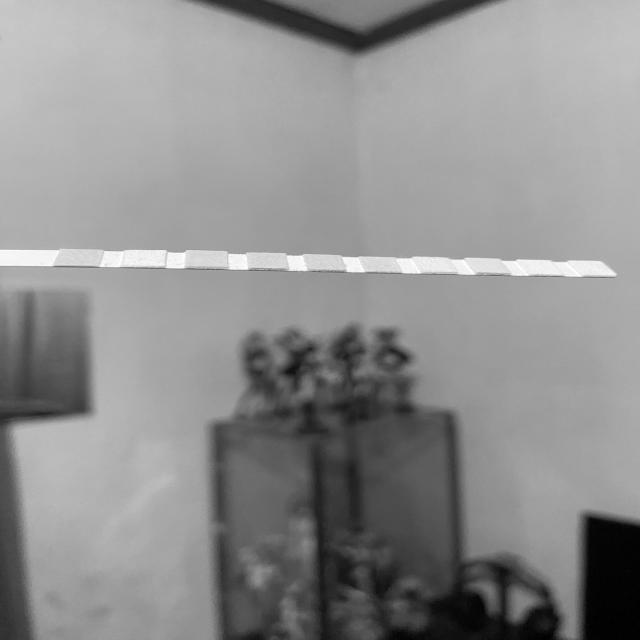Bilirubin: (127, 250, 165, 266)
Blood: (308, 254, 340, 271)
Glucose: (62, 248, 97, 266)
Ketone: (187, 250, 227, 266)
Leukocytes: (580, 261, 602, 276)
Nitrite: (528, 260, 552, 274)
Protein: (422, 257, 449, 273)
SpGravity: (248, 253, 285, 268)
Urobilinogen: (474, 259, 500, 274)
background: (0, 0, 640, 640)
pH: (365, 256, 395, 272)
strip: (0, 250, 615, 278)
